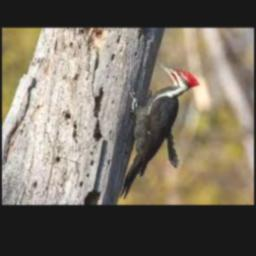Woodpecker: (119, 61, 200, 199)
